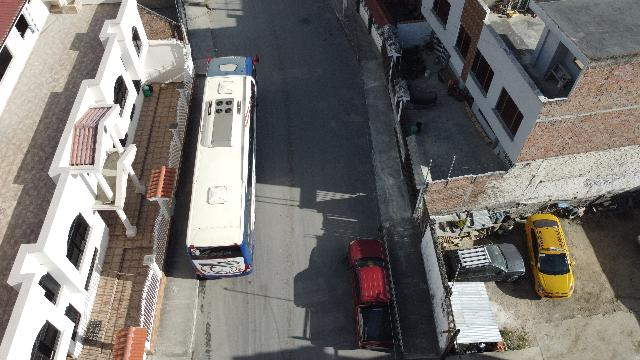Vehiculo: (348, 238, 398, 350), (525, 214, 575, 298), (443, 243, 525, 283)
